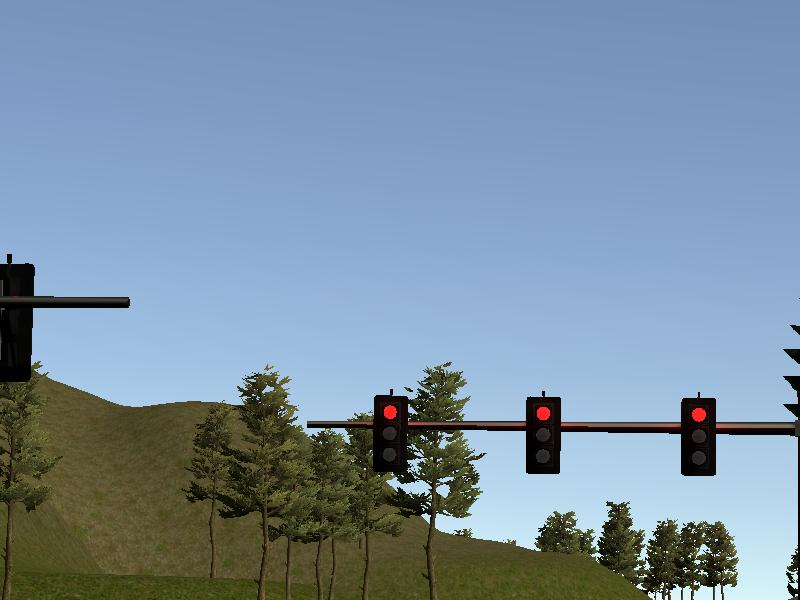Red: (525, 396, 561, 474), (681, 397, 716, 476), (373, 394, 408, 469)
